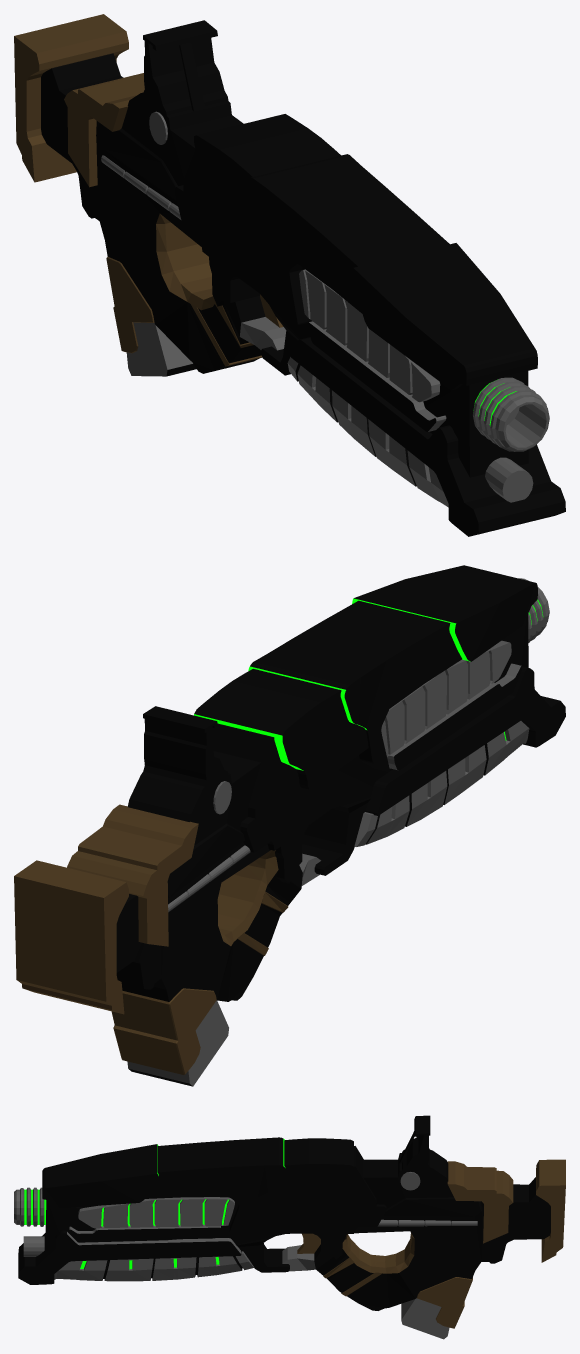
File: Shotgun.fbx
3 views of the same model, one above another, from view 1: azimuth 30°, elevation 25°; view 2: azimuth 150°, elevation 25°; view 3: azimuth 270°, elevation 25° (orthographic). The views are drawn at different scales.
Parts seen in each view (by area): view 1: shotgun, barel; view 2: shotgun, barel; view 3: shotgun, barel.
Boxes of the visible parts, <box> form: shotgun: <box>14,14,565,536</box>; barel: <box>473,377,549,451</box>; shotgun: <box>14,565,565,1086</box>; barel: <box>518,578,549,642</box>; shotgun: <box>18,1115,565,1339</box>; barel: <box>14,1187,46,1226</box>.
Bounding box in the file's own units: 31.78 × 103 × 250.
